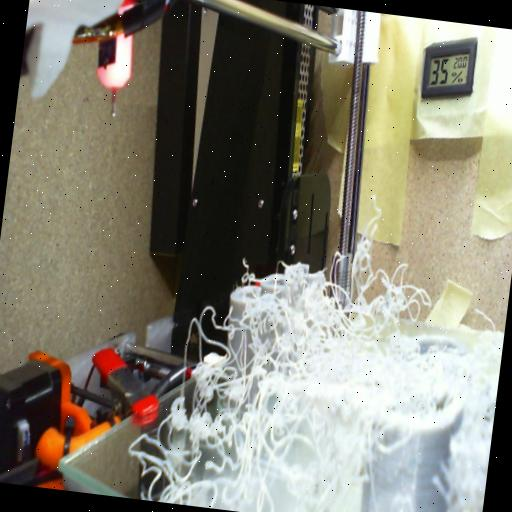spaghetti: (127, 164, 512, 512)
